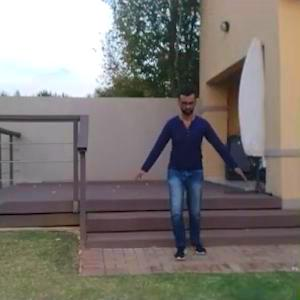land: (142, 87, 248, 261)
